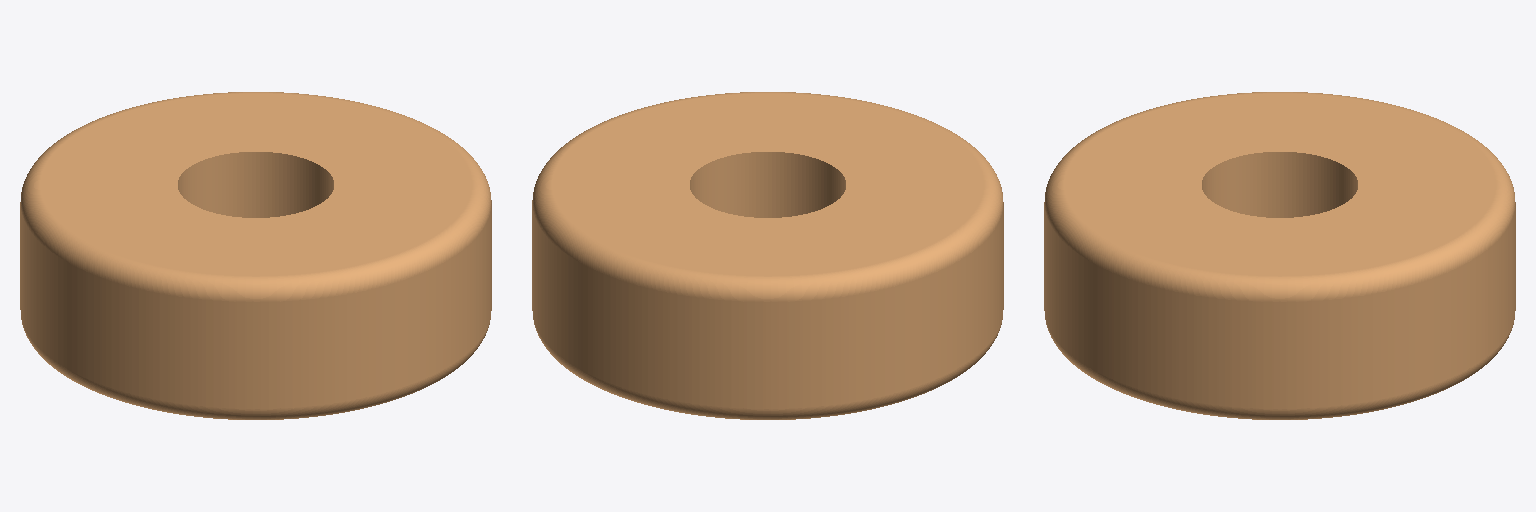
robot.urdf — cylindrical_wp_small:
<?xml version="1.0"?>
<robot name="cylindrical_wp_small">
    <link name="cylindrical_wp_small_origin">
        <visual>
            <geometry>
                <mesh filename="package://process_visualiser/resources/meshes_resized/cylindrical_wp_40mm.stl"
                      scale="1 1 1"/>
            </geometry>
            <material name="ABS" >
                <color rgba="0.9 0.7 0.5 1.0" />
            </material>
        </visual>
        <inertial>
            <origin xyz="0 0 0" rpy="0 0 0"/>
            <mass value="1"/>
            <inertia
                    ixx="1.0" ixy="0.0" ixz="0.0"
                    iyy="1.0" iyz="0.0"
                    izz="1.0"/>
        </inertial>

    </link>
    <link name="world"/>

    <joint name="fixed" type="fixed">
        <parent link="world"/>
        <child link="cylindrical_wp_small_origin"/>
    </joint>

    <gazebo reference="cylindrical_wp_small_origin">
        <material>Gazebo/Green</material>
    </gazebo>

</robot>

--- Facts derived from the render (not from the file) ---
The picture shows the robot from 3 angles, left to right: view 1: azimuth 30°, elevation 25°; view 2: azimuth 150°, elevation 25°; view 3: azimuth 270°, elevation 25°; orthographic projection.
Model cylindrical_wp_small with 2 links and 1 joints (1 fixed), rooted at world, posed all joints at 0.
Visible links, largest first — view 1: cylindrical_wp_small_origin; view 2: cylindrical_wp_small_origin; view 3: cylindrical_wp_small_origin.
Link boxes in pixels (x1,y1,x2,y2): cylindrical_wp_small_origin: (20,92,491,419); cylindrical_wp_small_origin: (532,92,1003,419); cylindrical_wp_small_origin: (1044,92,1515,419).
Bounding box of the posed robot: 0.12 × 0.12 × 0.04 m (x, y, z).
1 mesh visuals loaded from 1 distinct referenced files (1 binary STL).